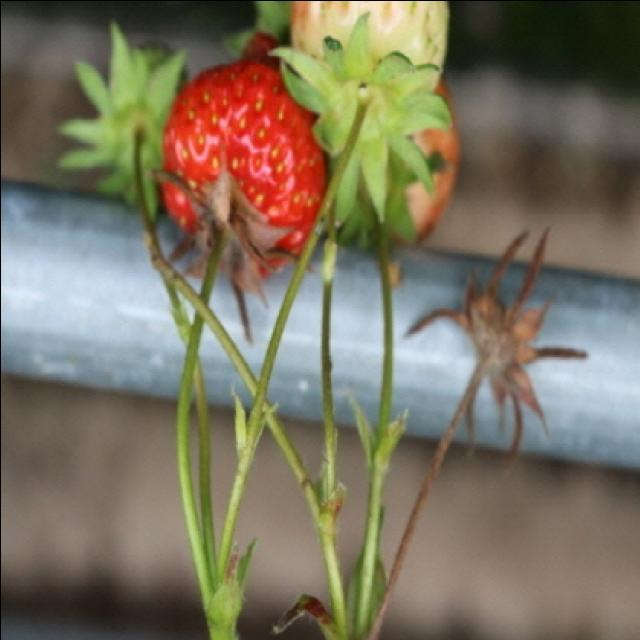Gray Mold: (406, 229, 584, 464)
